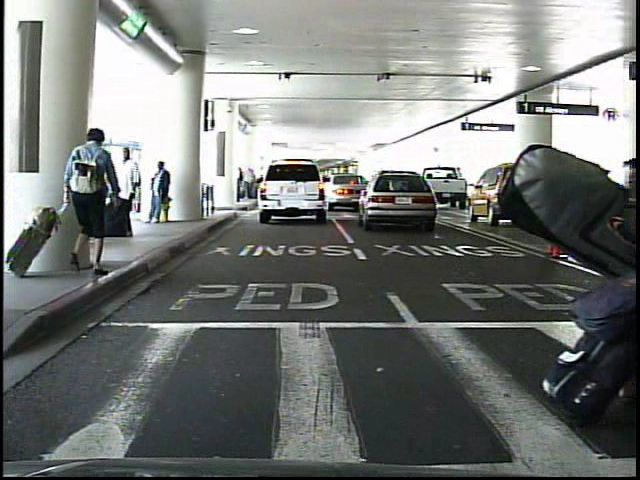person: (66, 126, 115, 278), (118, 146, 139, 239), (148, 162, 175, 229), (571, 165, 586, 213), (585, 167, 599, 211)
